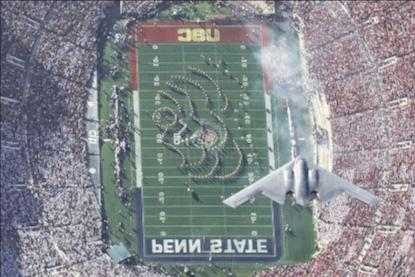B1: (221, 154, 383, 208)
